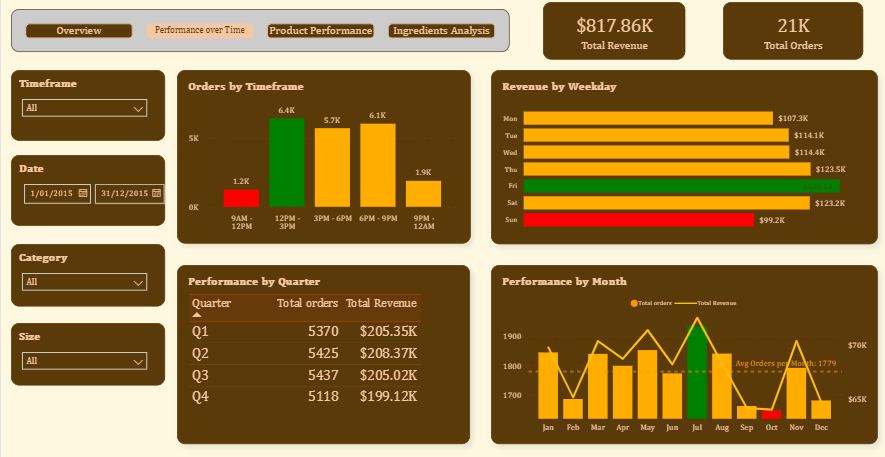

Layout of this report page (visuals, bound fields, positions):
{"tool":"powerbi","page":{"name":"Performance over Time","canvas":[1280,720],"ordinal":1},"visuals":[{"type":"columnChart","fields":{"Y":["Measures Table.Total orders"],"Category":["Timeframe Order.Timeframe"]},"box":[266.4,110.8,423.7,248.5],"z":0},{"type":"lineStackedColumnComboChart","title":"Performance by Month","fields":{"Y":["Measures Table.Total orders"],"Y2":["Measures Table.Total Revenue"],"Category":["dim_date.MonthName (Short)"]},"box":[705.6,390.2,557.3,257.8],"z":1000},{"type":"barChart","title":"Revenue by Weekday","fields":{"Y":["Measures Table.Total Revenue"],"Category":["dim_date.ShortWeekdayName"]},"box":[705.6,109.4,557.3,250.6],"z":2000},{"type":"tableEx","title":"Performance by Quarter","fields":{"Values":["dim_date.QuarterName","Measures Table.Total orders","Measures Table.Total Revenue"]},"box":[268.2,389.7,421.9,257.4],"z":3000},{"type":"pageNavigator","box":[14,22,718,62],"z":4000},{"type":"card","title":"Total Sales","fields":{"Values":["Measures Table.Total Revenue"]},"box":[780,11.7,205,83.3],"z":5000},{"type":"card","title":"Total Orders","fields":{"Values":["Measures Table.Total orders"]},"box":[1040,11.7,201.7,83.3],"z":6000},{"type":"slicer","title":"Timeframe","fields":{"Values":["Timeframe Order.Timeframe"]},"box":[14,110,235,102],"z":7000},{"type":"slicer","title":"Date","fields":{"Values":["dim_date.Date"]},"box":[14.3,234.2,234.2,125.1],"z":8000},{"type":"slicer","title":"Category","fields":{"Values":["orders.category"]},"box":[14.3,373.6,234.2,91.2],"z":9000},{"type":"slicer","title":"Size","fields":{"Values":["orders.size"]},"box":[14.3,488,234.2,89.4],"z":10000}]}

Visuals, with their boxes on the page's 1280x720 design canvas (x1, y1, x2, y2). These are canvas units, not pixel positions in the 885x457 screenshot, which may show the page scaled, cropped or inside an application window:
columnChart - Measures Table.Total orders x Timeframe Order.Timeframe: [left=266, top=111, right=690, bottom=359]
"Performance by Month" lineStackedColumnComboChart: [left=706, top=390, right=1263, bottom=648]
"Revenue by Weekday" barChart: [left=706, top=109, right=1263, bottom=360]
"Performance by Quarter" tableEx: [left=268, top=390, right=690, bottom=647]
pageNavigator: [left=14, top=22, right=732, bottom=84]
"Total Sales" card: [left=780, top=12, right=985, bottom=95]
"Total Orders" card: [left=1040, top=12, right=1242, bottom=95]
"Timeframe" slicer: [left=14, top=110, right=249, bottom=212]
"Date" slicer: [left=14, top=234, right=248, bottom=359]
"Category" slicer: [left=14, top=374, right=248, bottom=465]
"Size" slicer: [left=14, top=488, right=248, bottom=577]
